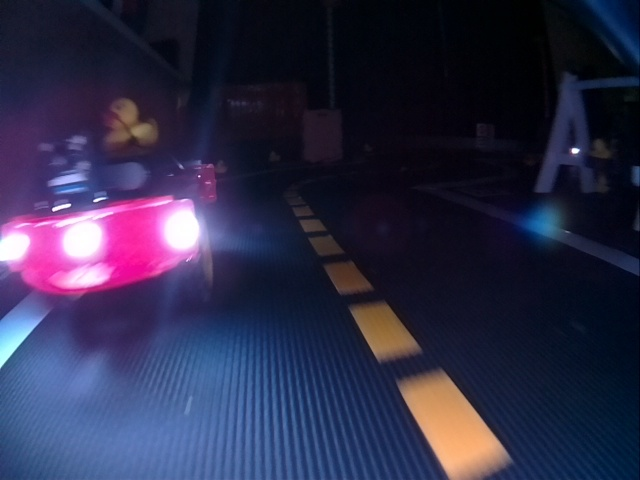Duckiebot: (2, 153, 217, 305)
